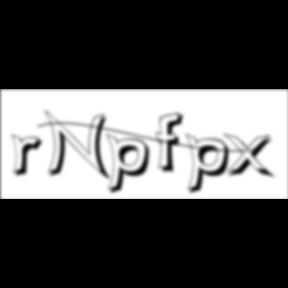N: (44, 109, 114, 183)
f: (156, 111, 189, 175)
p: (107, 132, 157, 198), (186, 132, 236, 198)
r: (11, 134, 49, 180)
x: (224, 132, 278, 181)
